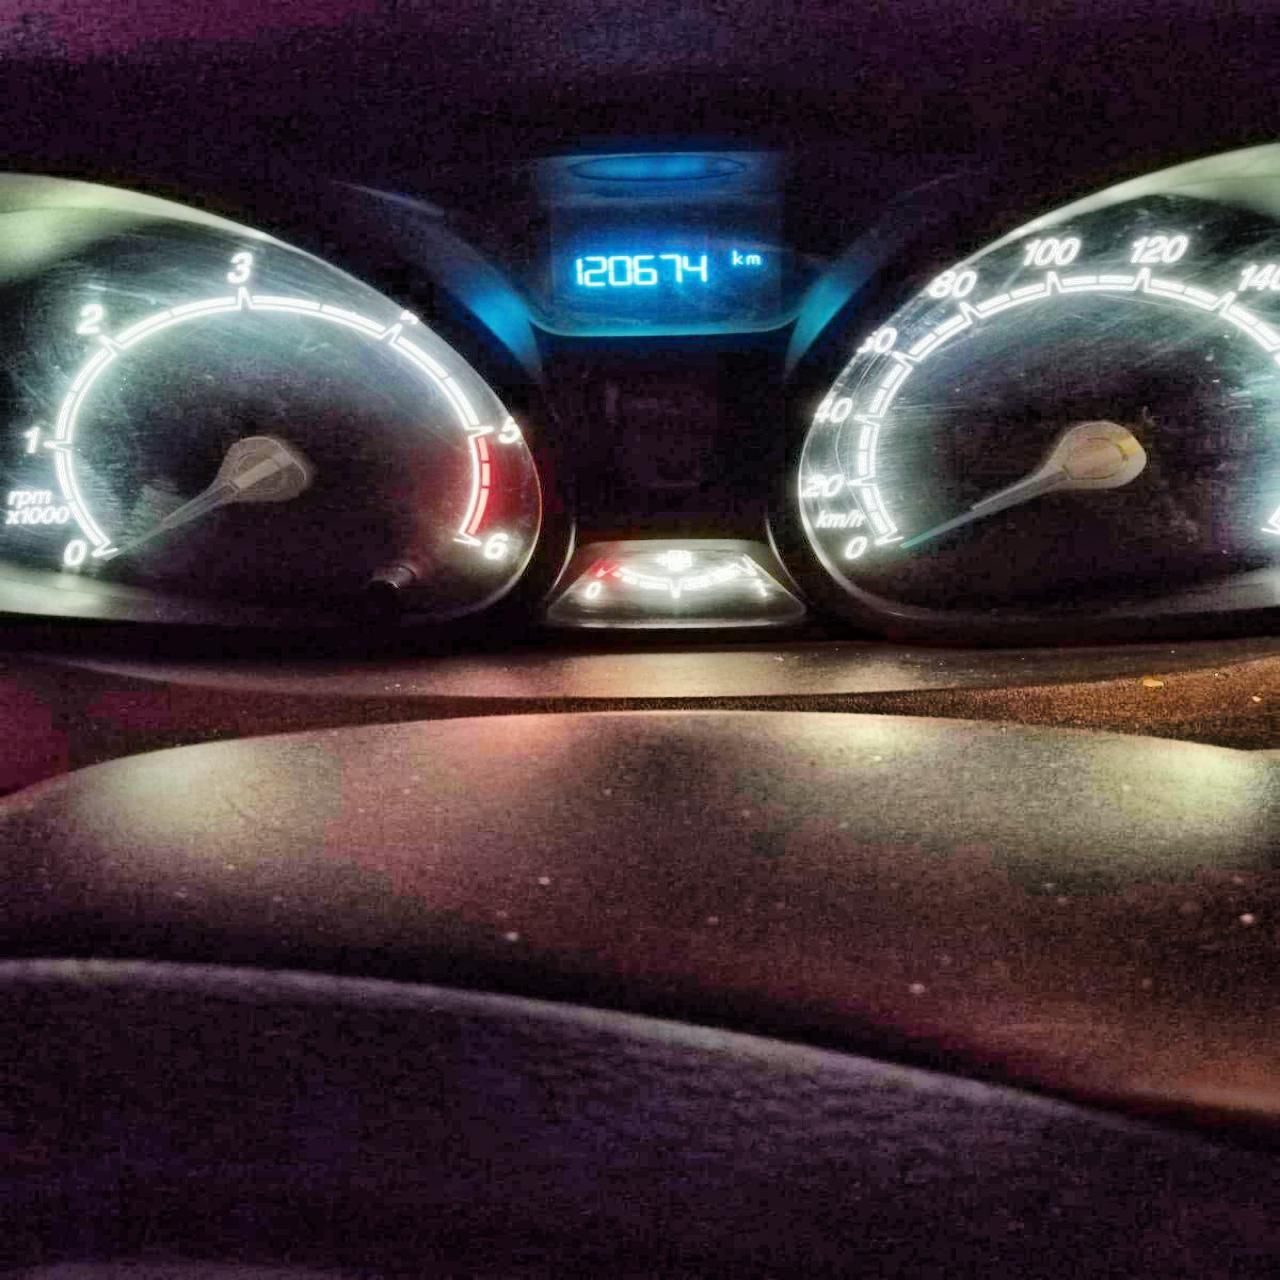0: (608, 253, 633, 287)
1: (571, 253, 584, 291)
2: (584, 253, 606, 290)
4: (682, 253, 713, 285)
6: (633, 253, 656, 287)
7: (659, 250, 682, 286)
X: (743, 253, 762, 267), (730, 247, 743, 265)
odometer: (530, 222, 784, 334)
